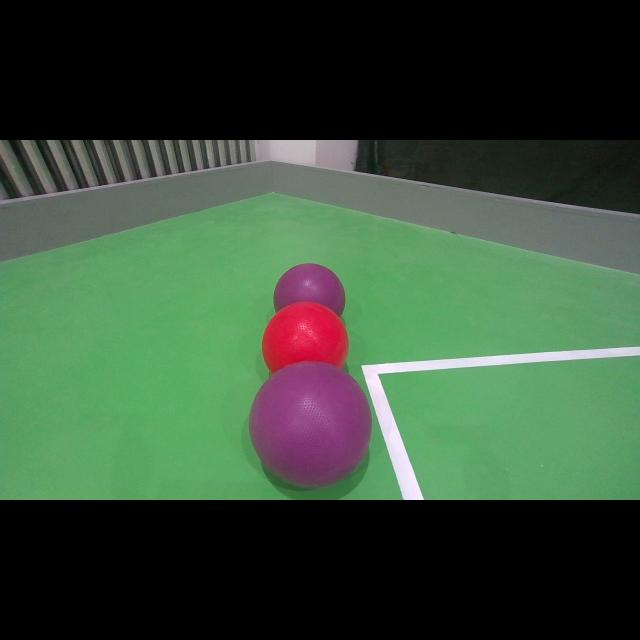P: (248, 361, 372, 489), (274, 266, 348, 326)
R: (263, 301, 349, 373)
